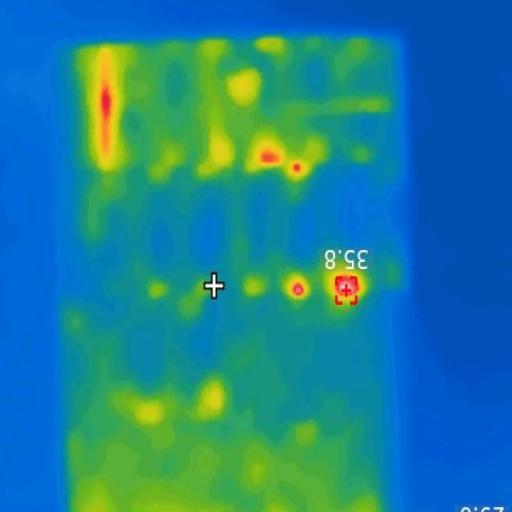hotspot: (98, 84, 110, 120), (288, 280, 308, 300), (259, 150, 280, 168), (290, 160, 302, 176)
